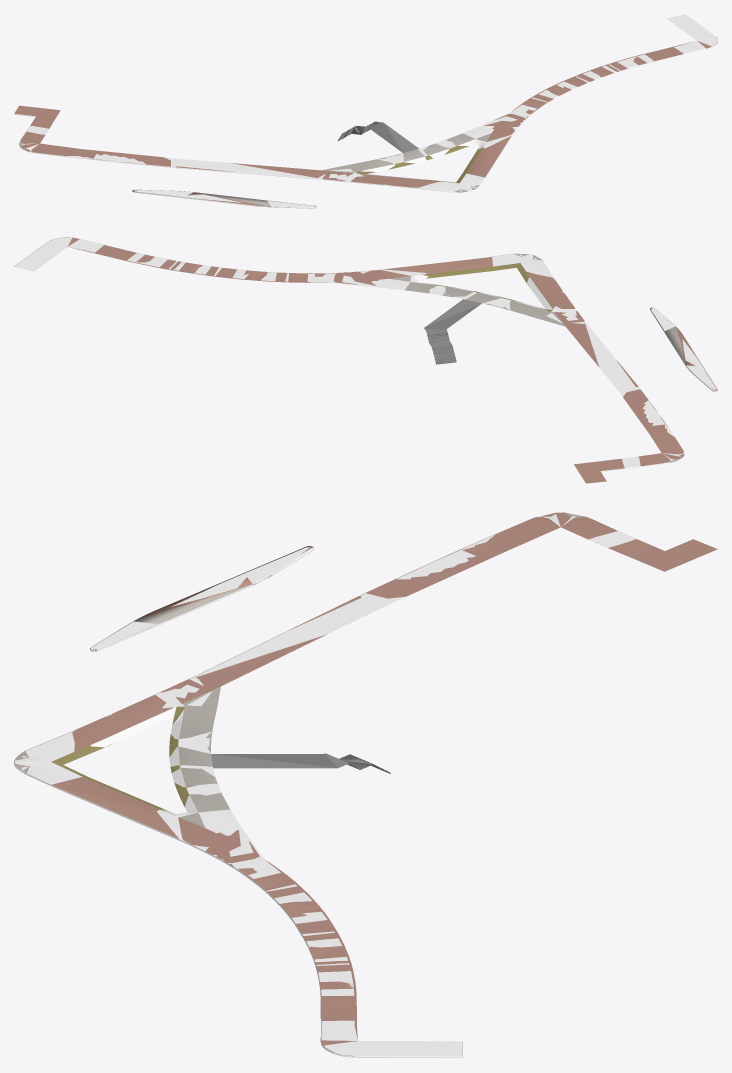
File: sidewalk_piers.dae
3 renders of one model, top to bottom at view 1: azimuth 30°, elevation 25°; view 2: azimuth 150°, elevation 25°; view 3: azimuth 270°, elevation 25°, orthographic. The views are drawn at different scales.
Visible parts, largest first — view 1: sidewalk_piers_a2000, sidewalk_piers_a3000; view 2: sidewalk_piers_a2000, sidewalk_piers_a3000; view 3: sidewalk_piers_a2000, sidewalk_piers_a3000.
Boxes of the visible parts, x1,y1,x2,y2 form: sidewalk_piers_a2000: [14, 18, 717, 208]; sidewalk_piers_a3000: [14, 14, 717, 208]; sidewalk_piers_a2000: [17, 237, 717, 483]; sidewalk_piers_a3000: [14, 237, 717, 480]; sidewalk_piers_a2000: [15, 512, 717, 1056]; sidewalk_piers_a3000: [14, 512, 693, 1058].
Size of the model in its own units: 149 by 81.66 by 3.79.
